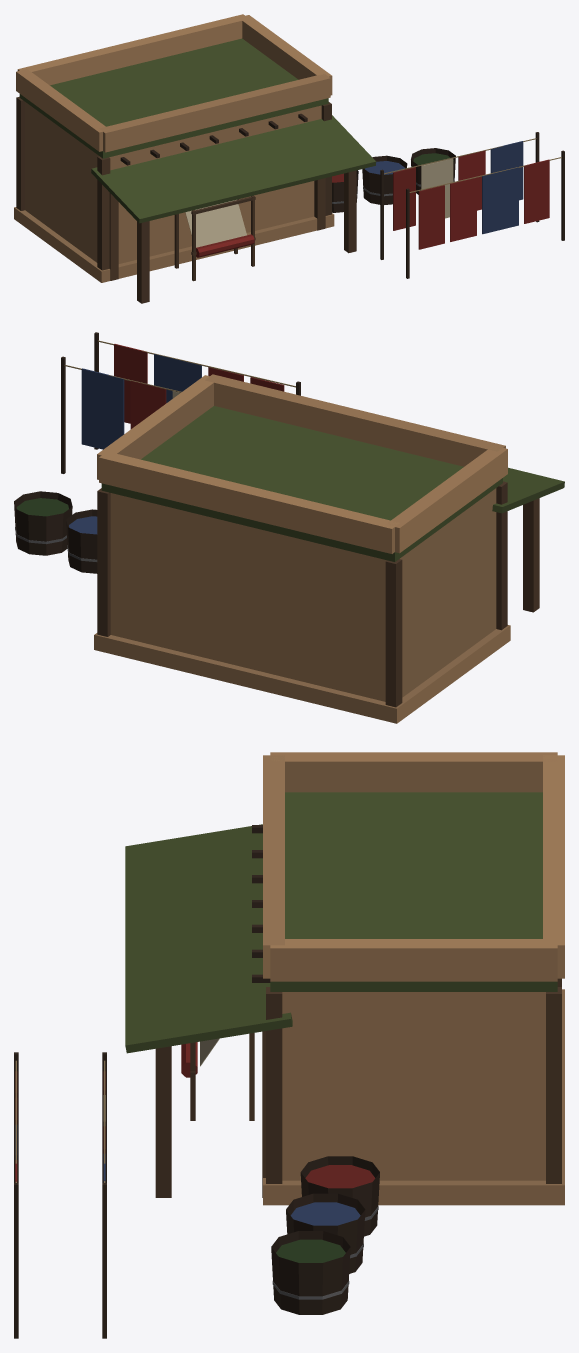
Rendered from walk_steppe_weaver.glb.
The picture shows the model from 3 angles, top to bottom: view 1: azimuth 30°, elevation 25°; view 2: azimuth 150°, elevation 25°; view 3: azimuth 270°, elevation 25°; orthographic projection. The views are drawn at different scales.
Visible parts, largest first — view 1: walk_steppe_weaver, walk_steppe_weaver_roof; view 2: walk_steppe_weaver, walk_steppe_weaver_roof; view 3: walk_steppe_weaver_roof, walk_steppe_weaver.
Boxes of the visible parts, x1,y1,x2,y2 form: walk_steppe_weaver: (14, 96, 564, 303); walk_steppe_weaver_roof: (16, 14, 376, 223); walk_steppe_weaver: (14, 332, 539, 723); walk_steppe_weaver_roof: (97, 374, 564, 561); walk_steppe_weaver_roof: (125, 752, 564, 1053); walk_steppe_weaver: (14, 825, 564, 1338).
Size of what is drawn, in the model's own units: 10.63 by 3.85 by 7.48.
2 materials, 2 textured.
